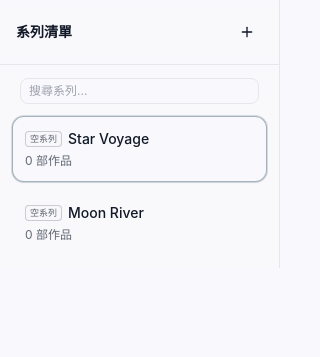
Test case: SeriesListPane unsaved-change guard › 新增系列 button shows confirm banner when isDirty
Click the button named "新增系列": (247, 32) 231,16 -> 263,48
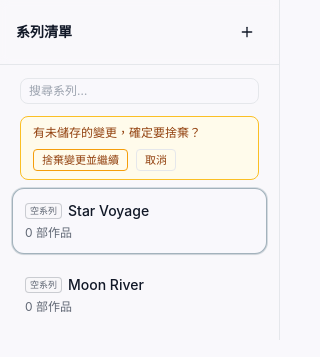
expect the text "有未儲存的變更，確定要捨棄？" is shown: met, box 33,125 -> 201,140
